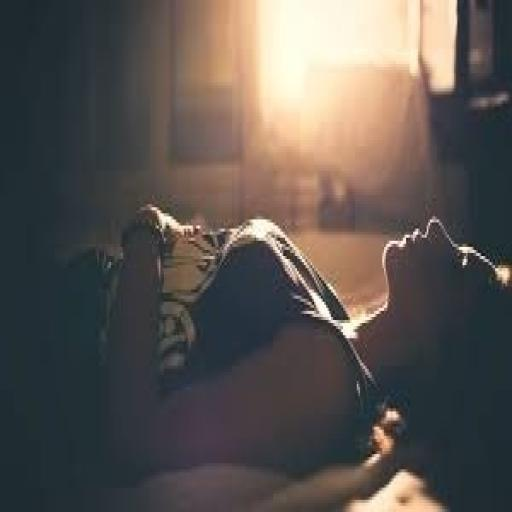sleeping: (97, 195, 507, 506)
